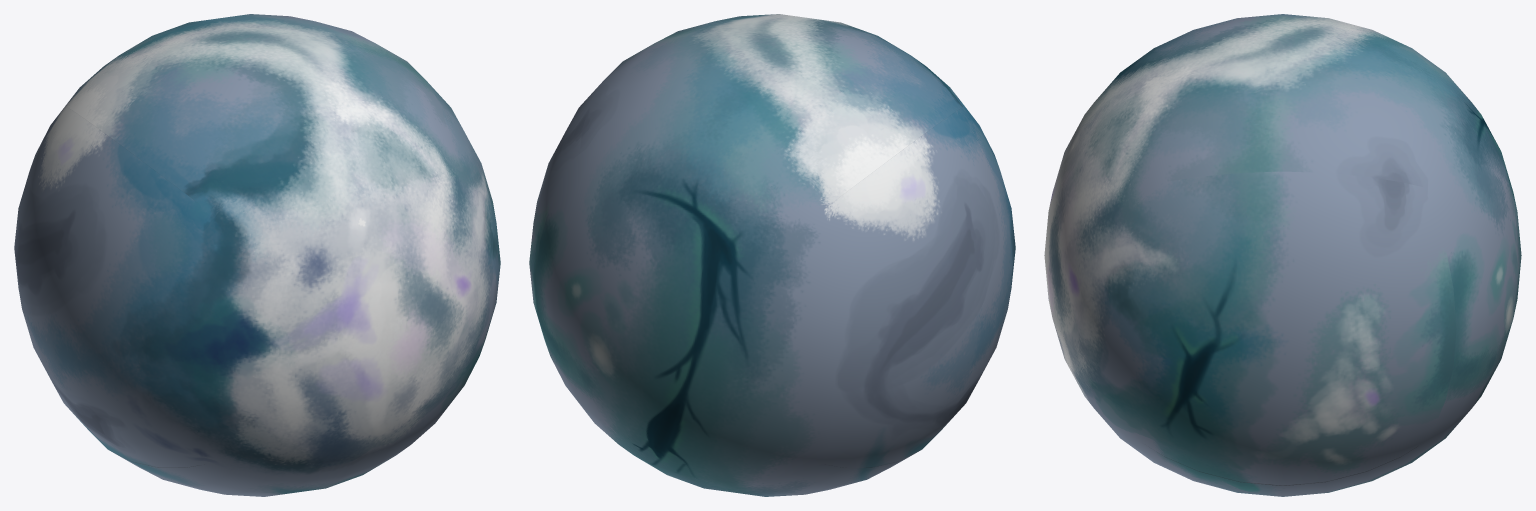
Rendered from Planet.fbx.
3 renders of one model, left to right at view 1: azimuth 30°, elevation 25°; view 2: azimuth 150°, elevation 25°; view 3: azimuth 270°, elevation 25°, orthographic.
Visible parts, largest first — view 1: pCube1; view 2: pCube1; view 3: pCube1.
Boxes of the visible parts, x1=… form: pCube1: x1=14, y1=14, x2=500, y2=496; pCube1: x1=529, y1=14, x2=1015, y2=496; pCube1: x1=1044, y1=14, x2=1521, y2=496.
Bounding box in the file's own units: 0.8492 × 0.8492 × 0.8492.
Materials: 1 (1 with a texture image).
